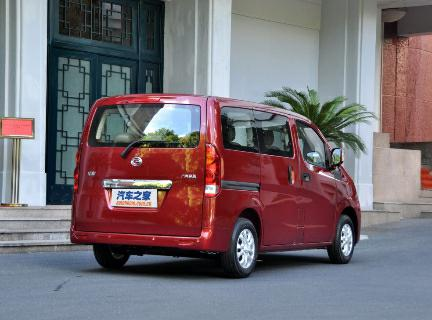广汽吉奥-星朗: (67, 89, 365, 280)
